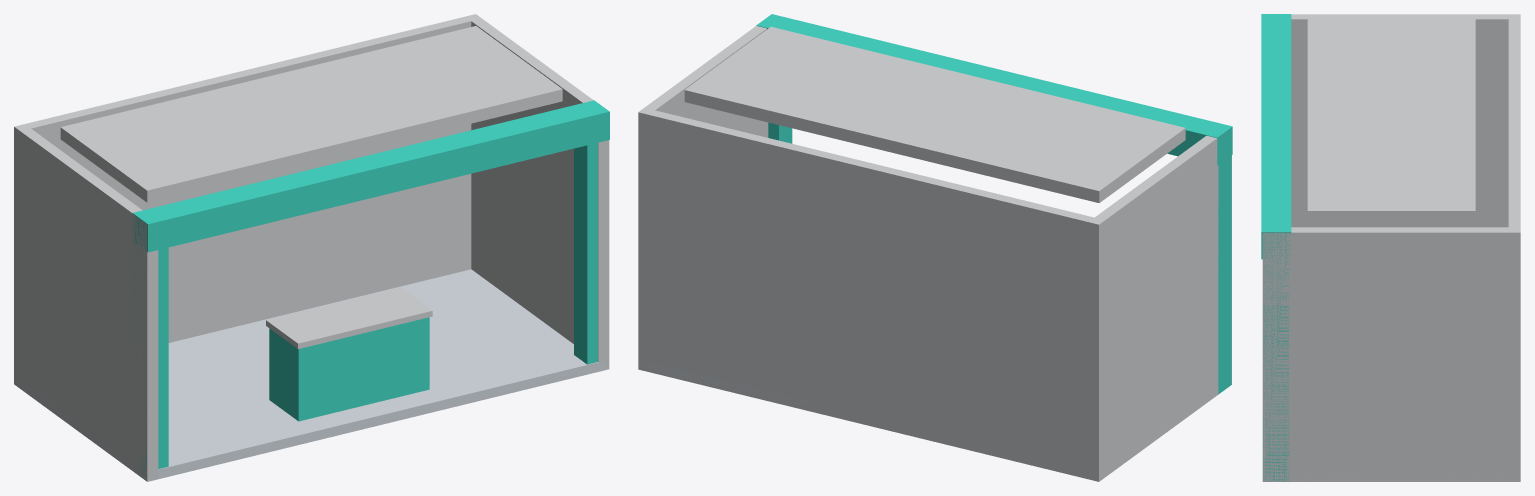
3 renders of one model, left to right at view 1: azimuth 30°, elevation 25°; view 2: azimuth 150°, elevation 25°; view 3: azimuth 270°, elevation 25°, orthographic. The views are drawn at different scales.
Parts seen in each view (by area): view 1: Exhibition Booth Concept; view 2: Exhibition Booth Concept; view 3: Exhibition Booth Concept.
Part boxes in pixels (x1,y1,x2,y2): Exhibition Booth Concept: (14, 14, 609, 481); Exhibition Booth Concept: (638, 14, 1232, 481); Exhibition Booth Concept: (1261, 14, 1520, 481).
Bounding box in the file's own units: 6 × 3.34 × 3.01.
